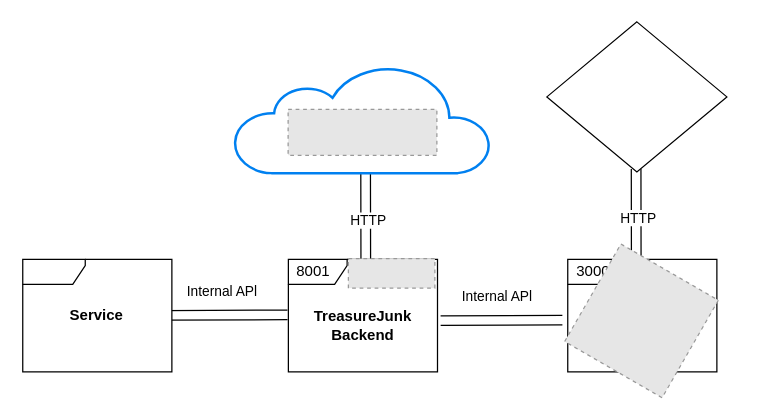
The diagram is 768 pixels wide and 420 high, and some of its shapes have lost their labels. Grey dashed boxes stand in for pictures. Here are the shapes that lost their labels. From the top down, the box of each, then its label:
(546, 21, 727, 172): User (Browser)
(22, 258, 172, 372): TODO
